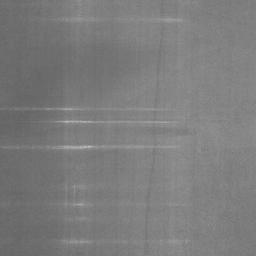Waist folding: (0, 143, 178, 152), (52, 119, 204, 129), (36, 15, 183, 24), (50, 237, 190, 246), (0, 105, 175, 112), (48, 216, 91, 223), (148, 202, 185, 208), (60, 182, 86, 190), (65, 201, 93, 208), (159, 134, 192, 138)
